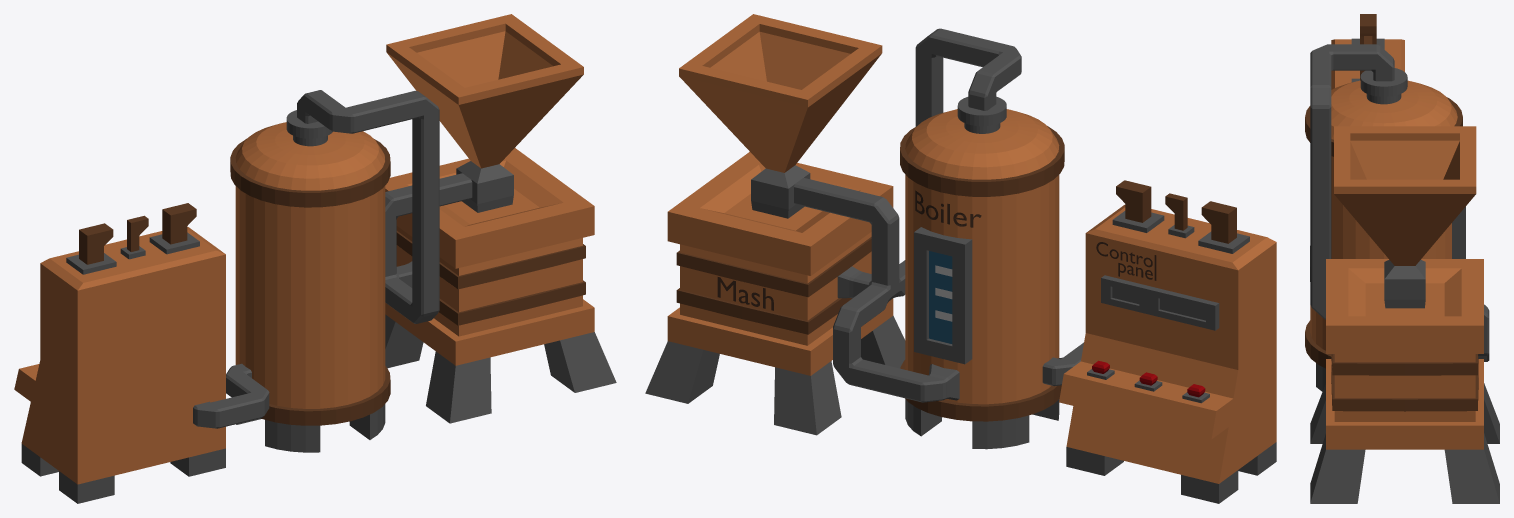
The model's file is BeerMaker9000.fbx.
3 views of the same model, side by side, from view 1: azimuth 30°, elevation 25°; view 2: azimuth 150°, elevation 25°; view 3: azimuth 270°, elevation 25° (orthographic). The views are drawn at different scales.
Parts seen in each view (by area): view 1: ControlPanel, Masher, Boiler, Cube, Masher.002, Masher.003, Boiler.004, Cube.001, ControlPanel.006, ControlPanel.001, Boiler.003, Boiler.006 (+3 smaller); view 2: Masher, ControlPanel, Boiler, Cube, Masher.002, Masher.003, Boiler.001, ControlPanel.002, Boiler.004, ControlPanel.006, ControlPanel.001, Boiler.006 (+6 smaller); view 3: Masher, Cube, Boiler, Masher.002, Masher.003, Masher.001, Boiler.005, ControlPanel, Boiler.001, ControlPanel.006, Boiler.003, Boiler.004 (+1 smaller).
Part boxes in pixels (<box>): ControlPanel: <box>14,227,225,484</box>; Masher: <box>385,14,594,365</box>; Boiler: <box>235,122,385,408</box>; Cube: <box>297,90,472,323</box>; Masher.002: <box>385,314,616,423</box>; Masher.003: <box>396,231,585,325</box>; Boiler.004: <box>230,138,390,207</box>; Cube.001: <box>193,363,269,428</box>; ControlPanel.006: <box>79,203,196,264</box>; ControlPanel.001: <box>21,444,225,503</box>; Boiler.003: <box>261,366,390,425</box>; Boiler.006: <box>236,404,385,452</box>; Masher: <box>667,14,893,375</box>; ControlPanel: <box>1059,205,1276,483</box>; Boiler: <box>905,109,1059,404</box>; Cube: <box>794,28,1021,402</box>; Masher.002: <box>645,315,905,435</box>; Masher.003: <box>676,237,871,334</box>; Boiler.001: <box>914,227,972,364</box>; ControlPanel.002: <box>1101,275,1219,330</box>; Boiler.004: <box>900,126,1064,196</box>; ControlPanel.006: <box>1116,180,1236,243</box>; ControlPanel.001: <box>1066,442,1276,503</box>; Boiler.006: <box>905,399,1059,449</box>; Masher: <box>1326,126,1483,449</box>; Cube: <box>1310,44,1489,361</box>; Boiler: <box>1310,80,1457,350</box>; Masher.002: <box>1310,383,1499,503</box>; Masher.003: <box>1331,354,1478,411</box>; Masher.001: <box>1384,259,1425,308</box>; Boiler.005: <box>1360,68,1407,104</box>; ControlPanel: <box>1331,39,1404,89</box>; Boiler.001: <box>1452,206,1465,258</box>; ControlPanel.006: <box>1360,14,1376,80</box>; Boiler.003: <box>1305,320,1331,368</box>; Boiler.004: <box>1305,97,1462,156</box>.
Size of the model in its own units: 285 by 171 by 92.49.
